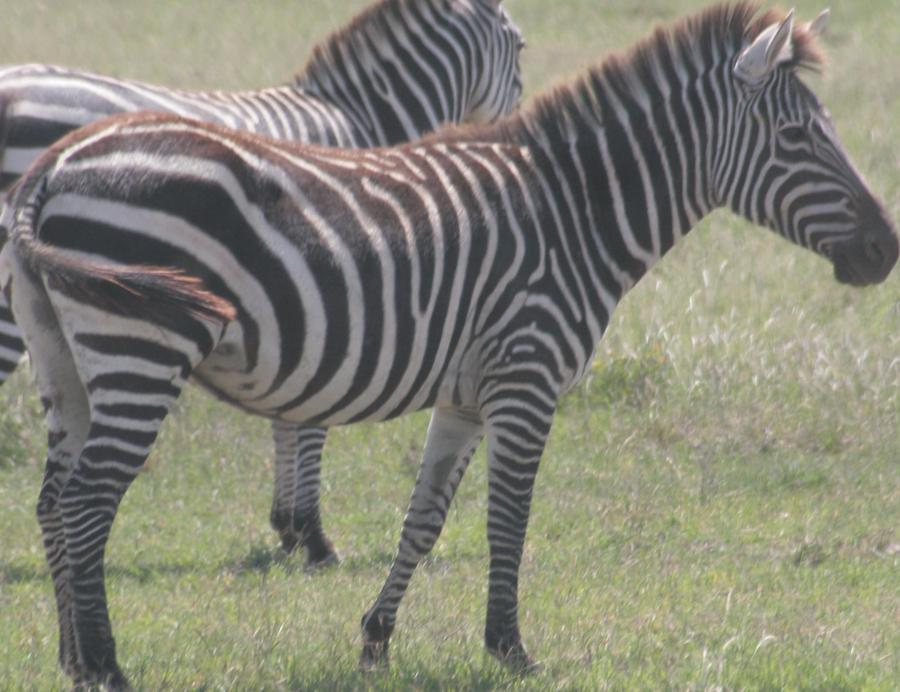zebra_plains: (60, 108, 613, 429)
